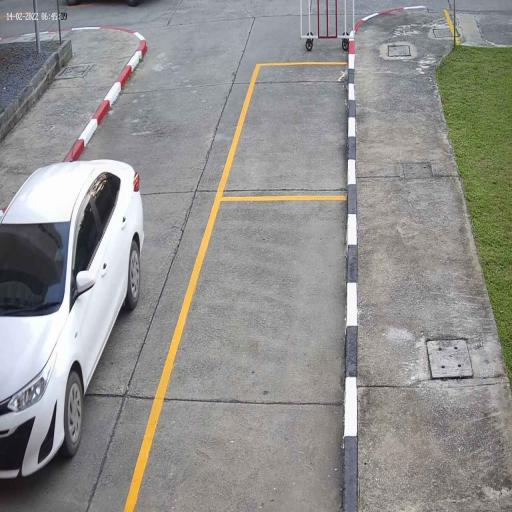car: (0, 157, 146, 482)
